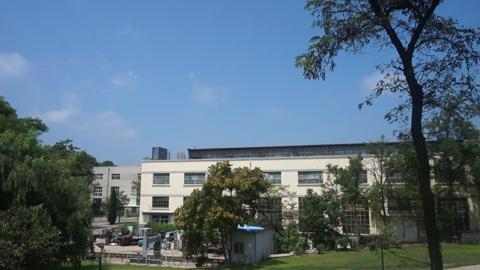UAV: (262, 173, 272, 180)
